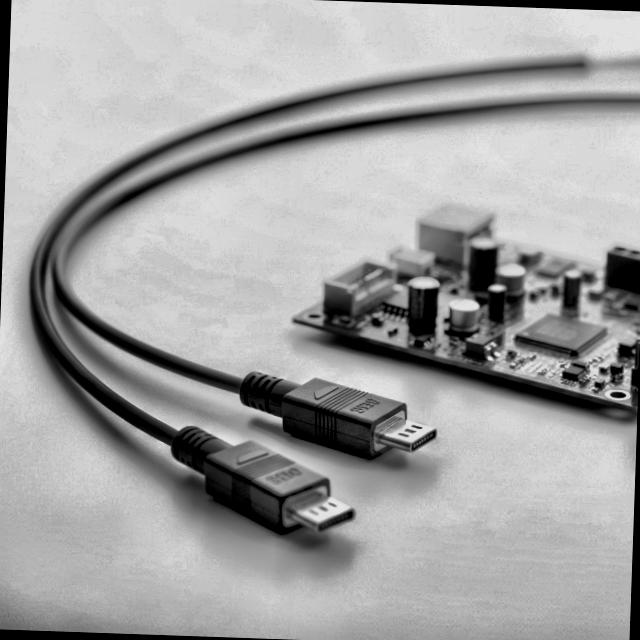Cable: (6, 17, 450, 560)
PCB: (293, 188, 640, 409)
